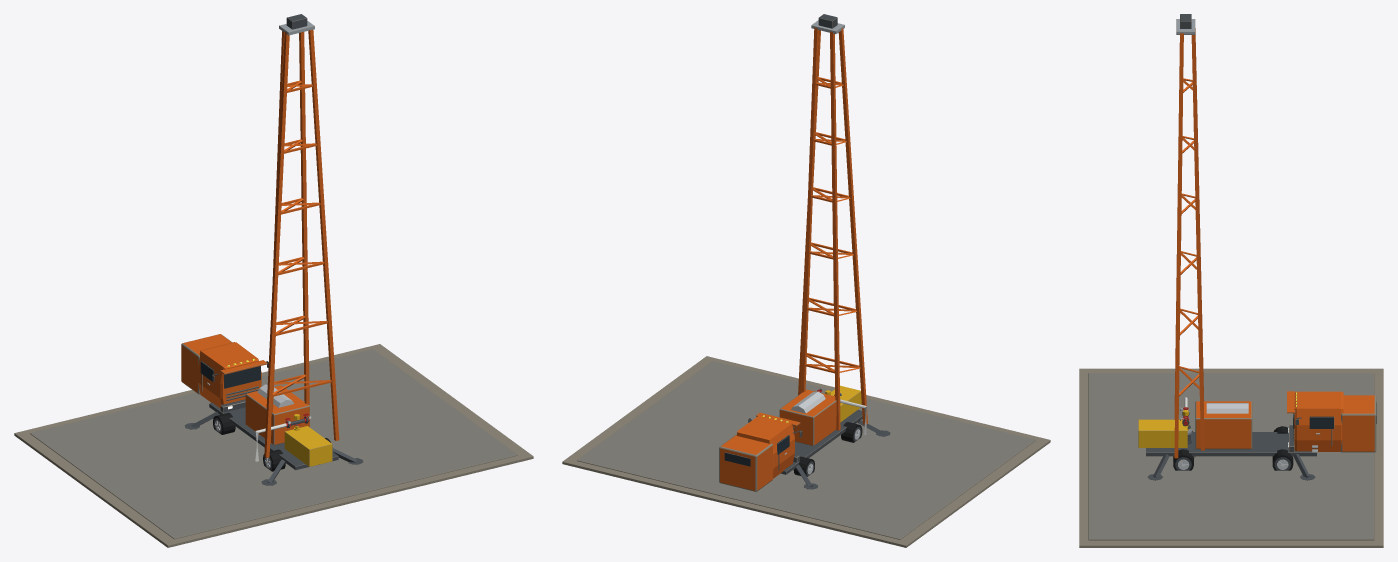
The model's file is on_workover_rig.glb.
3 renders of one model, left to right at view 1: azimuth 30°, elevation 25°; view 2: azimuth 150°, elevation 25°; view 3: azimuth 270°, elevation 25°, orthographic. The views are drawn at different scales.
Parts seen in each view (by area): view 1: on_workover_rig; view 2: on_workover_rig; view 3: on_workover_rig.
Boxes of the visible parts, <box> form: on_workover_rig: <box>14,14,533,547</box>; on_workover_rig: <box>562,14,1050,547</box>; on_workover_rig: <box>1079,14,1383,547</box>.
Bounding box in the file's own units: 22 × 25.65 × 16.
